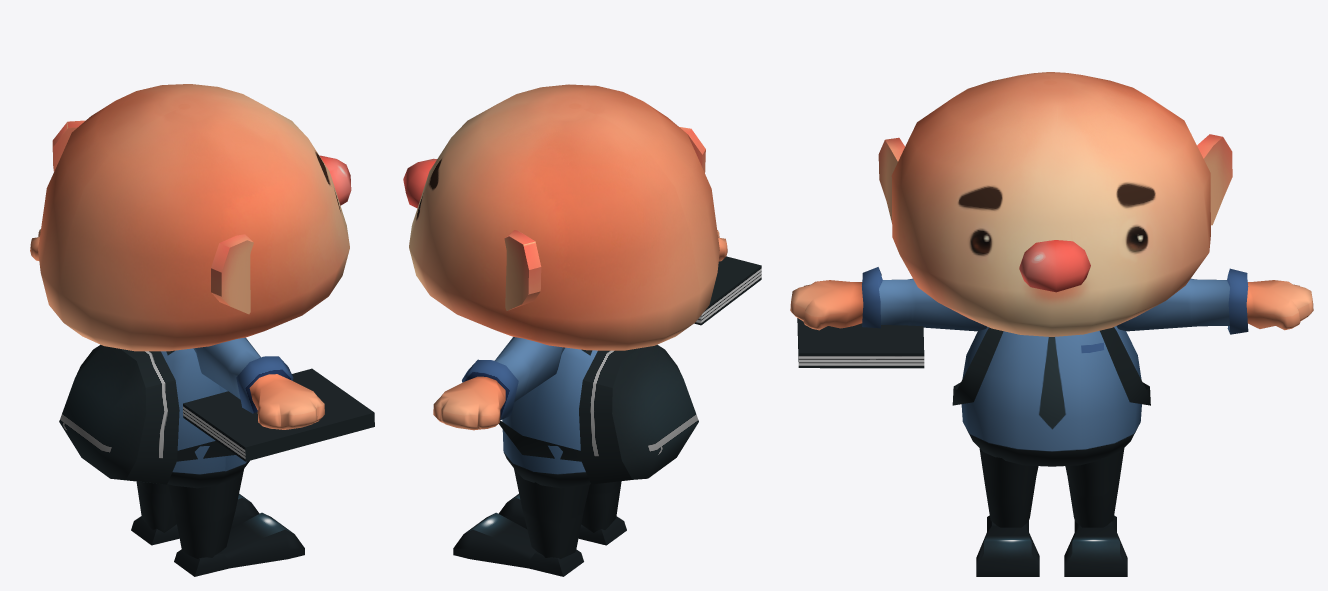
Rendered from Char_Com_Anal_01.fbx.
3 views of the same model, side by side, from view 1: azimuth 30°, elevation 25°; view 2: azimuth 150°, elevation 25°; view 3: azimuth 270°, elevation 25° (orthographic). The views are drawn at different scales.
Parts seen in each view (by area): view 1: Head_Insurance, Bag_Insurance, R_Leg_Insurance, Book_Insurance, R_Arm_Insurance, Body_Insurance, L_Leg_Insurance, R_Ear_Insurance, Nose_Insurance, L_Ear_Insurance; view 2: Head_Insurance, Bag_Insurance, L_Leg_Insurance, Body_Insurance, L_Arm_Insurance, R_Leg_Insurance, L_Ear_Insurance, Book_Insurance, Nose_Insurance; view 3: Head_Insurance, Body_Insurance, L_Arm_Insurance, R_Arm_Insurance, L_Leg_Insurance, R_Leg_Insurance, Book_Insurance, Bag_Insurance, Nose_Insurance, L_Ear_Insurance, R_Ear_Insurance.
Part boxes in pixels (box(x1,y1,x2,y2)): Head_Insurance: box(38, 84, 349, 351); Bag_Insurance: box(59, 344, 235, 484); R_Leg_Insurance: box(168, 469, 304, 576); Book_Insurance: box(183, 368, 374, 461); R_Arm_Insurance: box(193, 337, 324, 429); Body_Insurance: box(161, 348, 249, 488); L_Leg_Insurance: box(131, 481, 259, 545); R_Ear_Insurance: box(211, 234, 253, 314); Nose_Insurance: box(319, 155, 351, 205); L_Ear_Insurance: box(52, 120, 85, 171); Head_Insurance: box(409, 84, 719, 350); Bag_Insurance: box(499, 344, 698, 484); L_Leg_Insurance: box(453, 469, 589, 576); Body_Insurance: box(502, 347, 597, 488); L_Arm_Insurance: box(433, 337, 564, 430); R_Leg_Insurance: box(498, 481, 626, 545); L_Ear_Insurance: box(504, 230, 541, 310); Book_Insurance: box(694, 256, 761, 325); Nose_Insurance: box(403, 158, 436, 207); Head_Insurance: box(891, 72, 1210, 336); Body_Insurance: box(961, 326, 1141, 466); L_Arm_Insurance: box(1116, 268, 1313, 334); R_Arm_Insurance: box(790, 267, 986, 331); L_Leg_Insurance: box(1064, 448, 1127, 576); R_Leg_Insurance: box(976, 448, 1039, 576); Book_Insurance: box(797, 318, 924, 368); Bag_Insurance: box(952, 327, 1150, 405); Nose_Insurance: box(1019, 240, 1090, 292); L_Ear_Insurance: box(1197, 134, 1232, 225); R_Ear_Insurance: box(878, 137, 904, 222).
Bounding box in the file's own units: 4.84 × 7.41 × 6.85.
